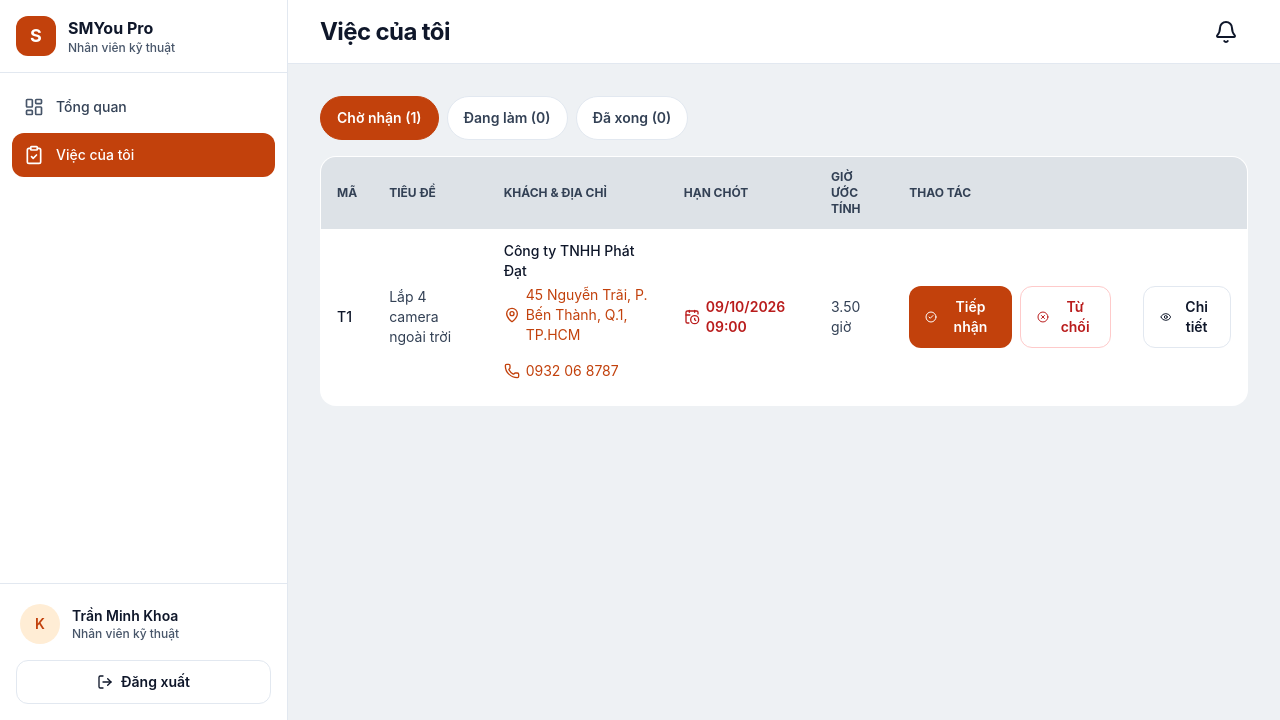
it: Việc của tôi › AC-ASG-038 Xác nhận từ chối: gọi reject đúng tham số, toast, thẻ biến mất
The width and height of the screenshot is (1280, 720).
Check: the text "T1" is shown, box [320,229,373,406]
Click the button "Từ chối" at (1065, 317), box [1020,286,1111,348]
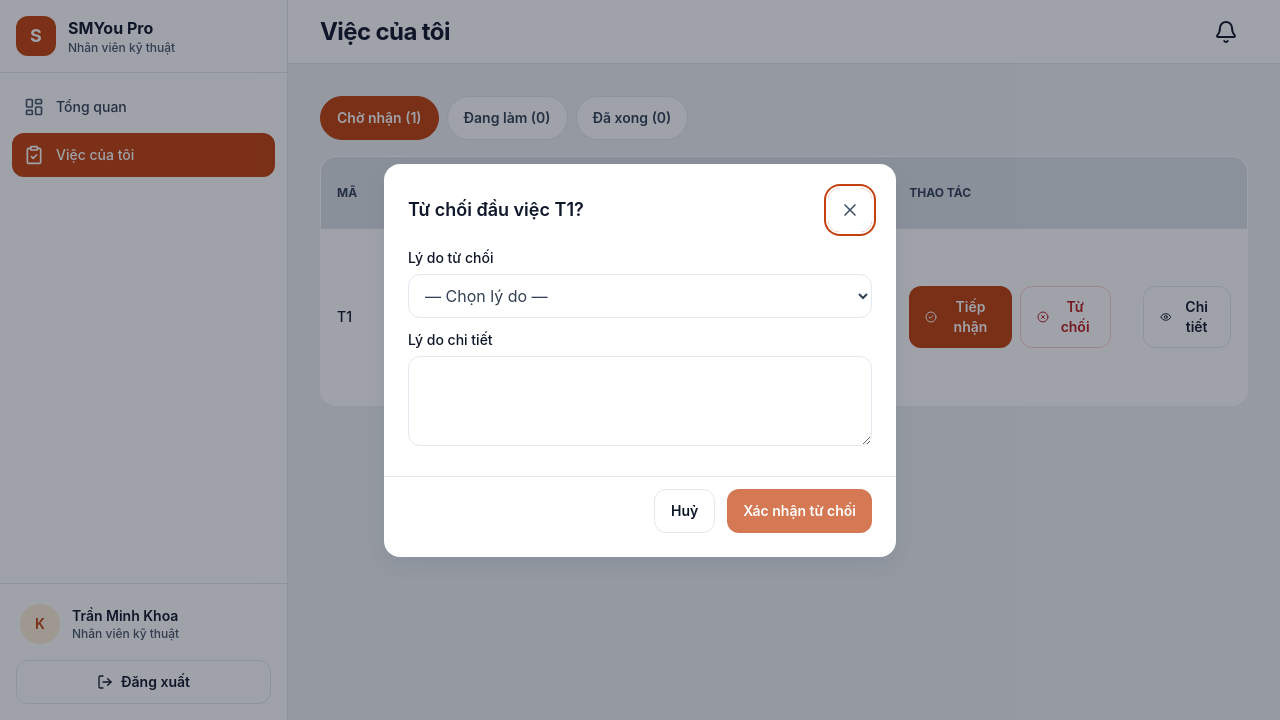
Select "Địa điểm quá xa / không di chuyển được" in the dropdown labelled "Lý do từ chối" at (640, 296), box [408,274,872,318]
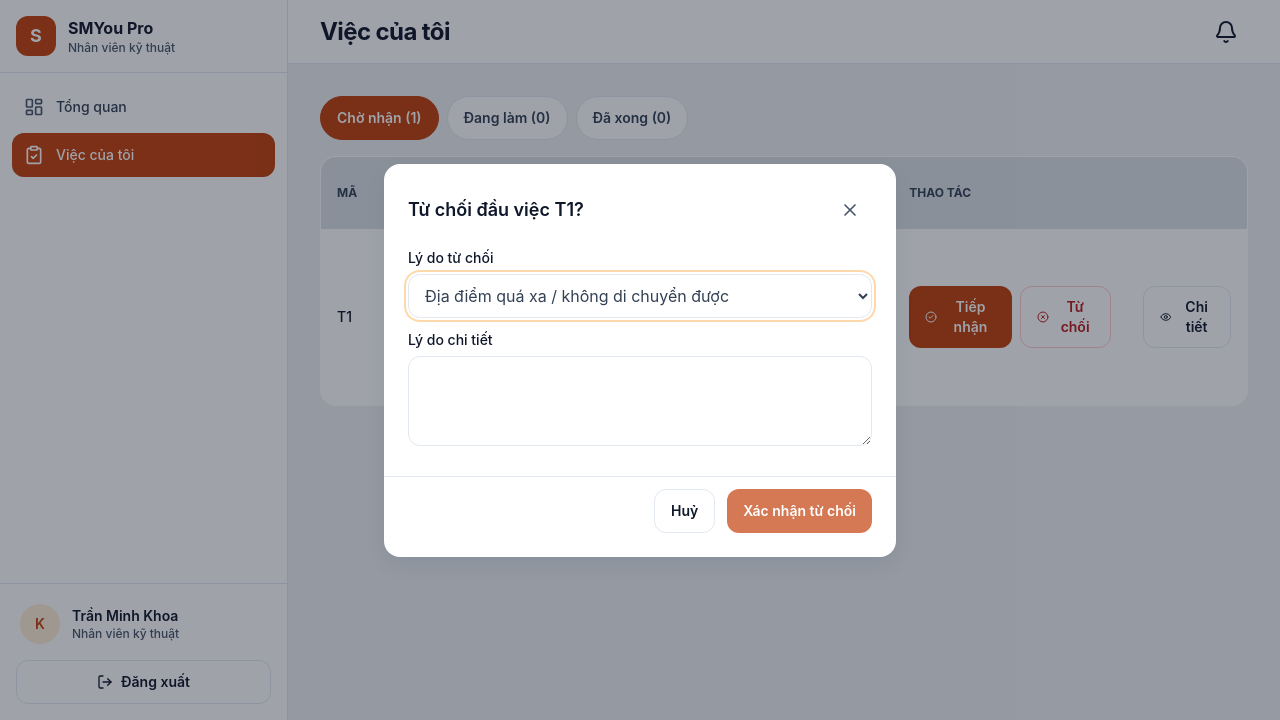
Type "Địa chỉ quá xa, không kịp" into the text box labelled "Lý do chi tiết" at (640, 400), box [408,356,872,446]
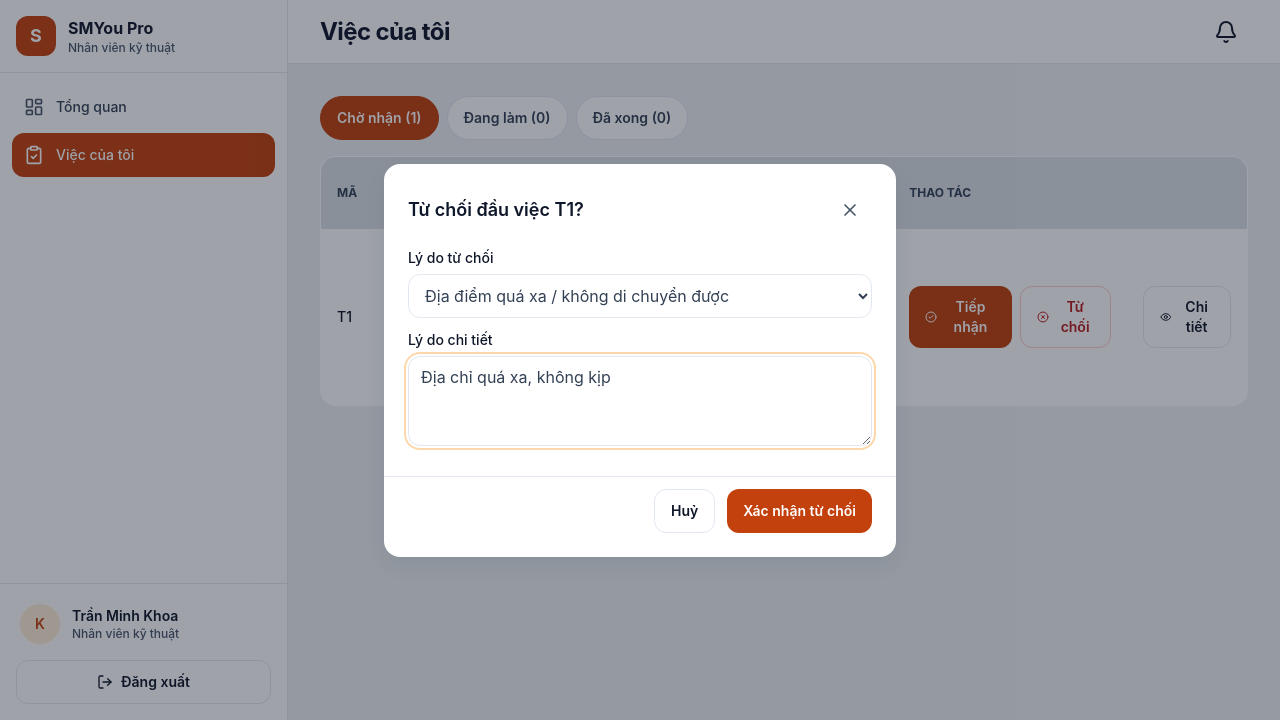
Click the button "Xác nhận từ chối" at (800, 510), box [727,488,872,532]
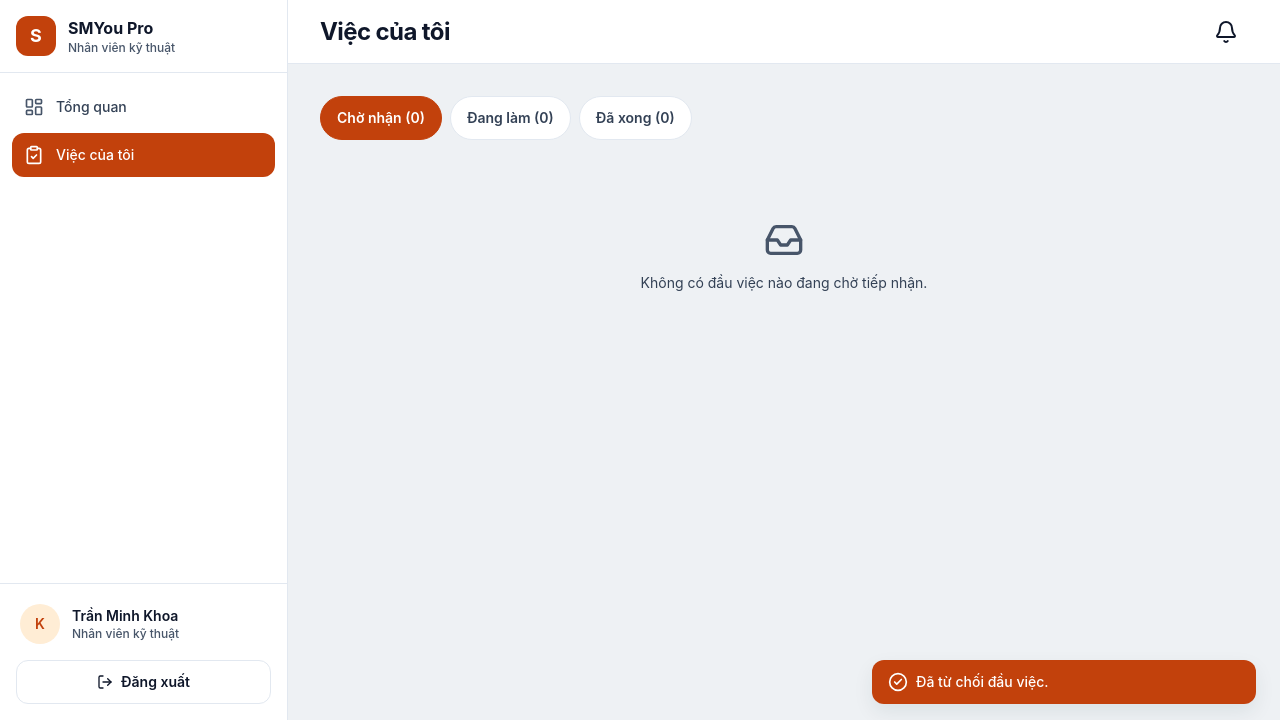
Check: the text "Đã từ chối đầu việc." is shown, box [872,660,1256,704]
Check: the dialog is gone
Check: the text "T1" is gone
